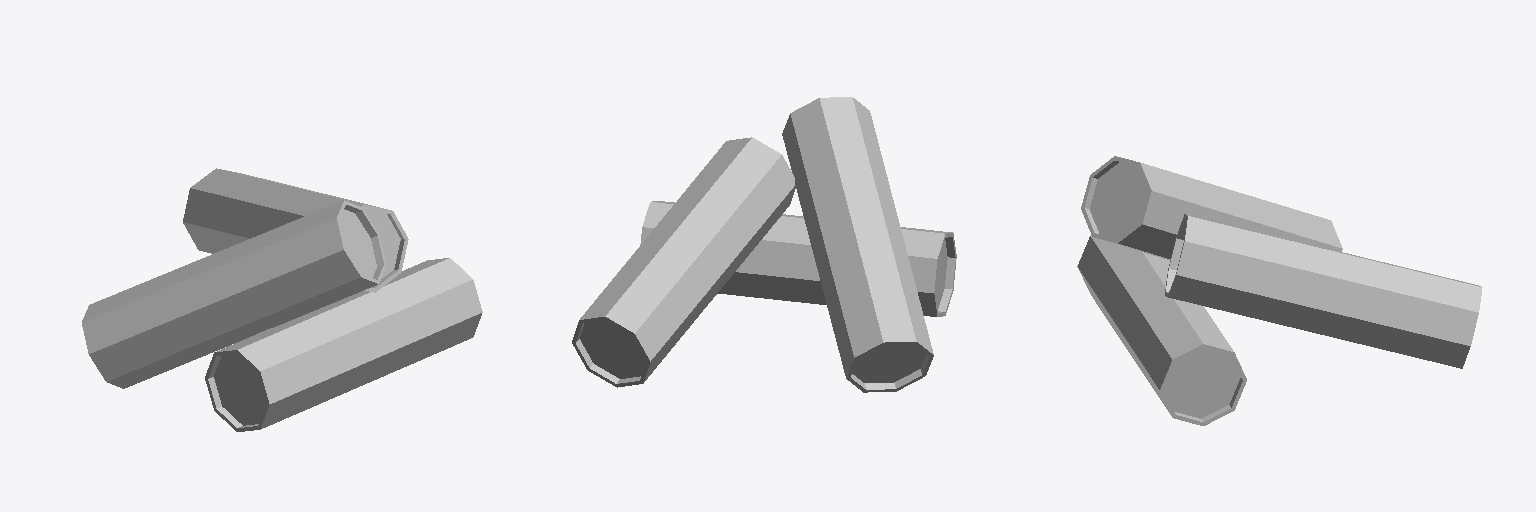
File: logs.obj
3 renders of one model, left to right at view 1: azimuth 30°, elevation 25°; view 2: azimuth 150°, elevation 25°; view 3: azimuth 270°, elevation 25°, orthographic.
Visible parts, largest first — view 1: pCylinder3, pCylinder2, pCylinder1; view 2: pCylinder3, pCylinder1, pCylinder2; view 3: pCylinder1, pCylinder2, pCylinder3.
Part boxes in pixels (left/top/right/bottom): pCylinder3: left=82, top=200, right=386, bottom=388; pCylinder2: left=205, top=258, right=482, bottom=431; pCylinder1: left=183, top=168, right=408, bottom=292; pCylinder3: left=782, top=97, right=933, bottom=392; pCylinder1: left=572, top=137, right=795, bottom=387; pCylinder2: left=640, top=201, right=956, bottom=316; pCylinder1: left=1165, top=214, right=1482, bottom=368; pCylinder2: left=1077, top=235, right=1246, bottom=425; pCylinder3: left=1081, top=156, right=1342, bottom=259.
Bounding box in the file's own units: 0.8461 × 0.4971 × 0.8904.